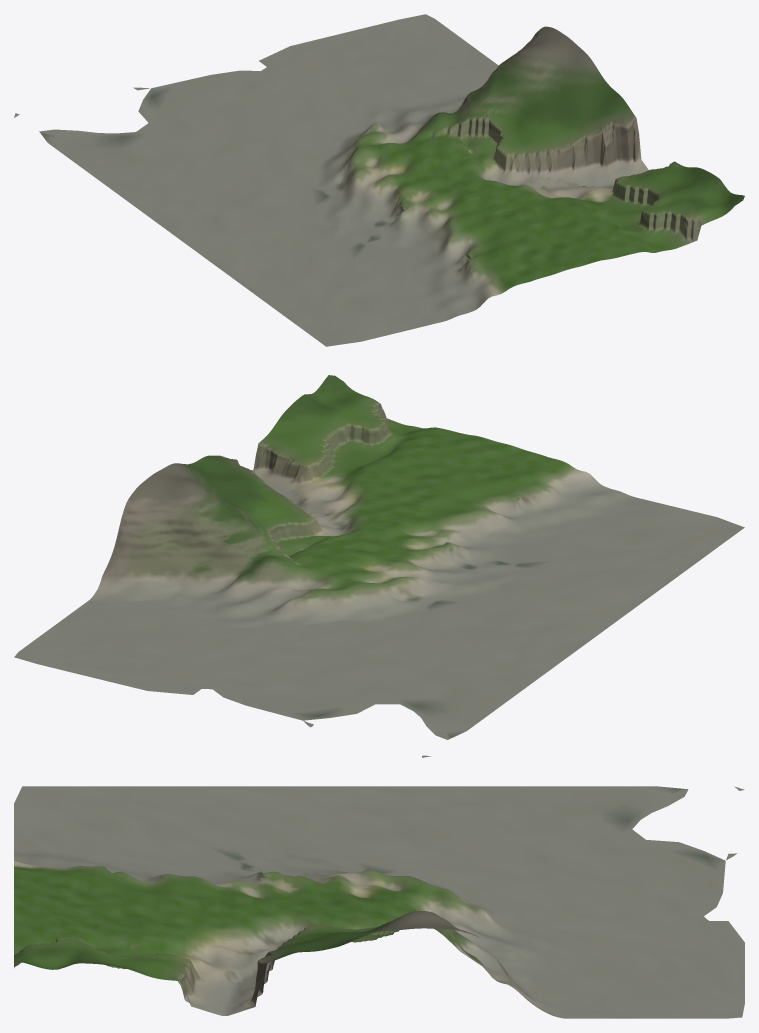
Rendered from coast_tile_x0z0_lod1.glb.
3 renders of one model, top to bottom at view 1: azimuth 30°, elevation 25°; view 2: azimuth 150°, elevation 25°; view 3: azimuth 270°, elevation 25°, orthographic. The views are drawn at different scales.
Visible parts, largest first — view 1: coast_tile_x0z0_lod1; view 2: coast_tile_x0z0_lod1; view 3: coast_tile_x0z0_lod1.
Part boxes in pixels (x1=…): coast_tile_x0z0_lod1: x1=14, y1=14, x2=744, y2=346; coast_tile_x0z0_lod1: x1=14, y1=375, x2=744, y2=757; coast_tile_x0z0_lod1: x1=14, y1=786, x2=744, y2=1018.
Bounding box in the file's own units: 600 × 109 × 798.
